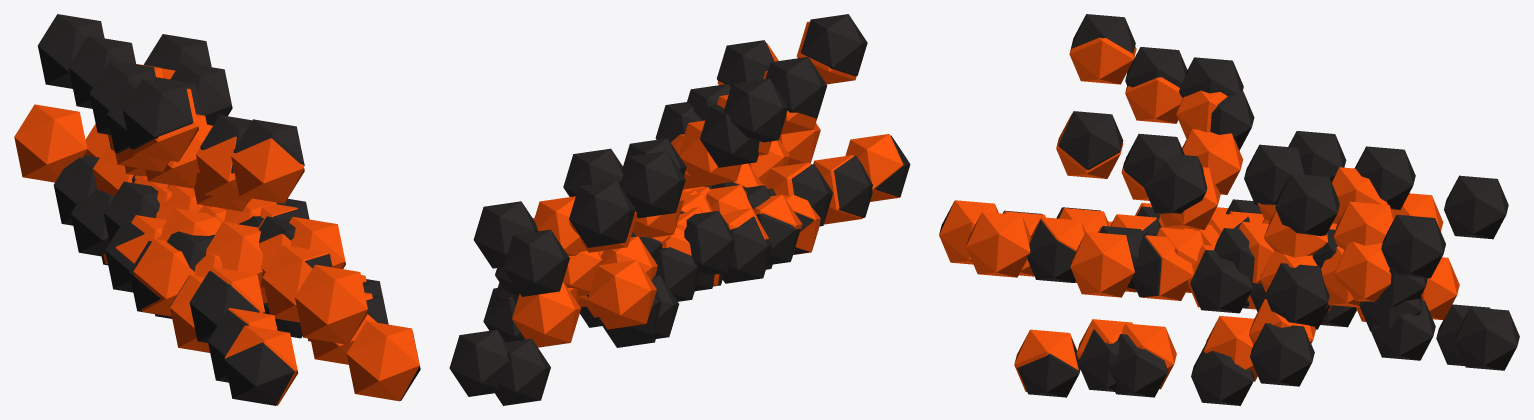
3 renders of one model, left to right at view 1: azimuth 30°, elevation 25°; view 2: azimuth 150°, elevation 25°; view 3: azimuth 270°, elevation 25°, orthographic. The views are drawn at different scales.
Visible parts, largest first — view 1: FireTrail, Smoke; view 2: Smoke, FireTrail; view 3: Smoke, FireTrail.
Part boxes in pixels (box(x1,y1,x2,y2)): FireTrail: box(14, 64, 419, 405); Smoke: box(37, 14, 420, 405); Smoke: box(449, 14, 910, 405); FireTrail: box(512, 21, 903, 347); Smoke: box(939, 14, 1519, 405); FireTrail: box(939, 37, 1459, 391).
Bounding box in the file's own units: 23.02 × 26.28 × 45.69.
